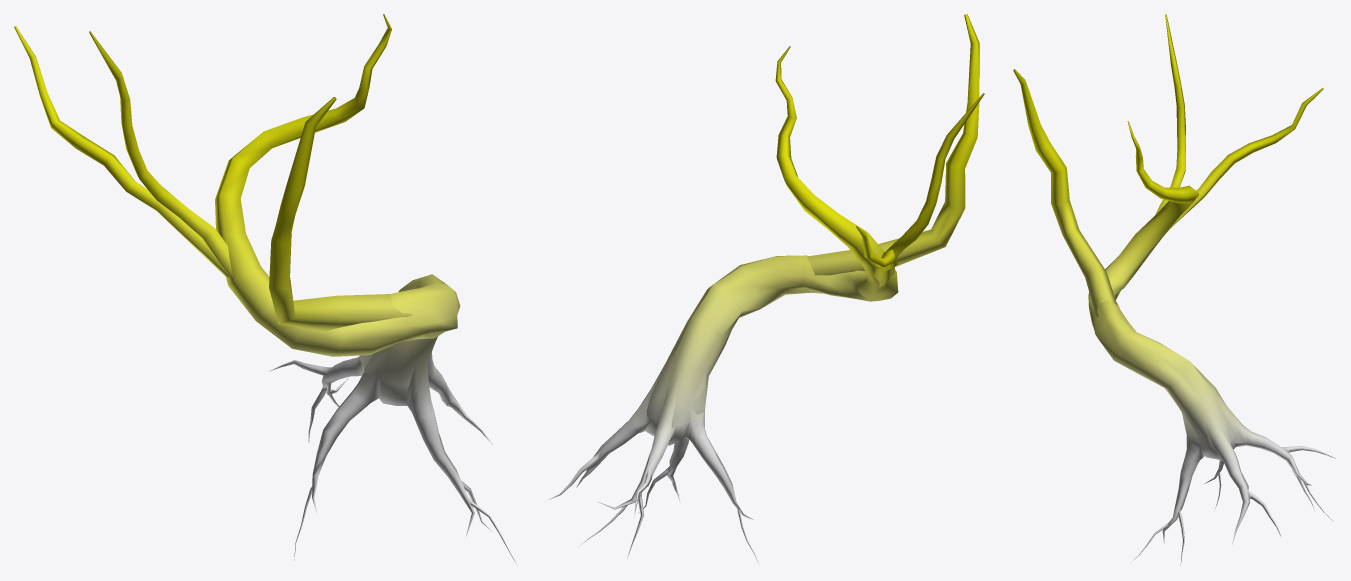
The model's file is Deadtree6.fbx.
The picture shows the model from 3 angles, left to right: view 1: azimuth 30°, elevation 25°; view 2: azimuth 150°, elevation 25°; view 3: azimuth 270°, elevation 25°; orthographic projection. The views are drawn at different scales.
Parts seen in each view (by area): view 1: Deadtree6_LOD0; view 2: Deadtree6_LOD0; view 3: Deadtree6_LOD0.
Part boxes in pixels (x1,y1,x2,y2): Deadtree6_LOD0: (14,14,516,564); Deadtree6_LOD0: (549,14,984,563); Deadtree6_LOD0: (1013,14,1335,565).
Size of what is drawn, in the model's own units: 495 by 641 by 449.
